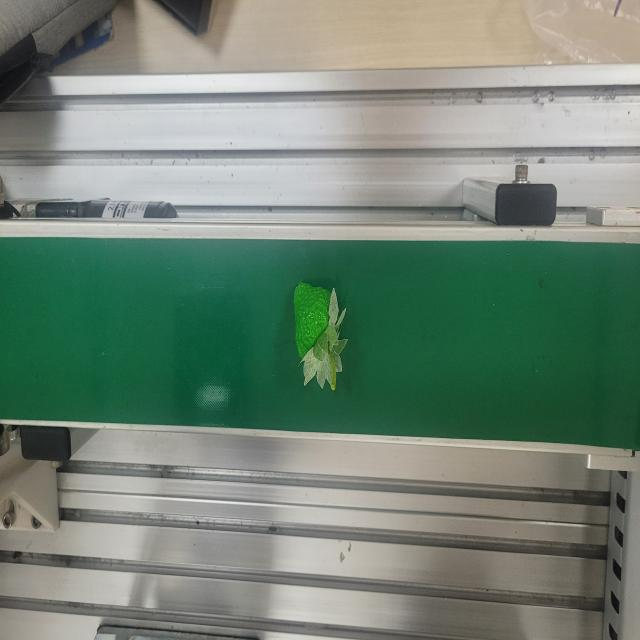Small Unripe Strawberry: (290, 275, 350, 394)
